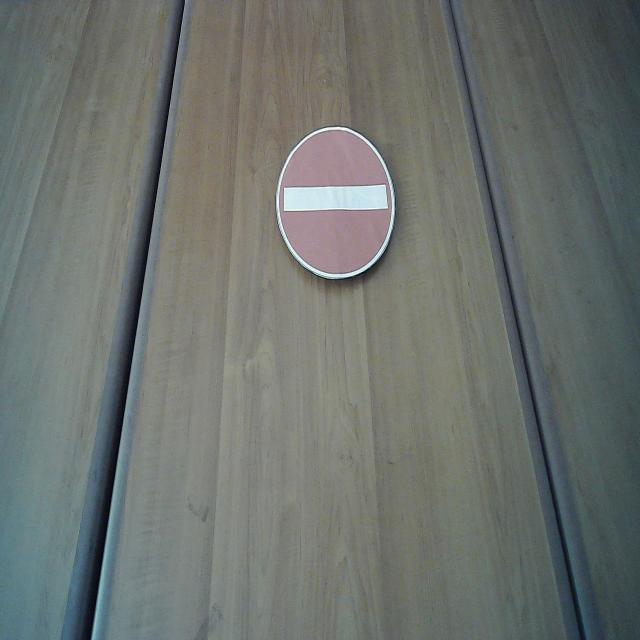no_entry: (274, 122, 396, 284)
